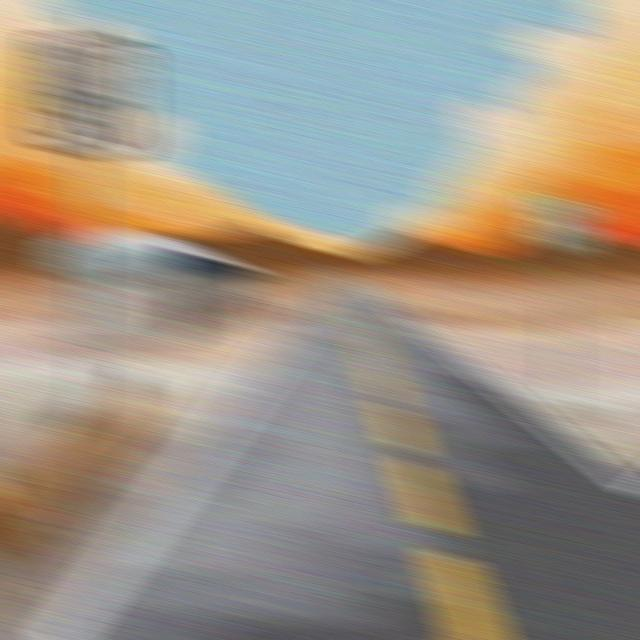speedLimit50: (28, 28, 151, 165)
